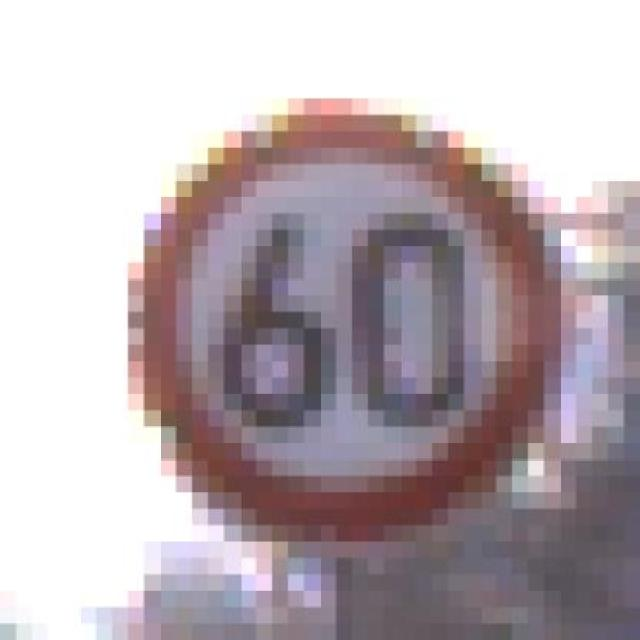forb_speed_over_60: (133, 109, 550, 543)
